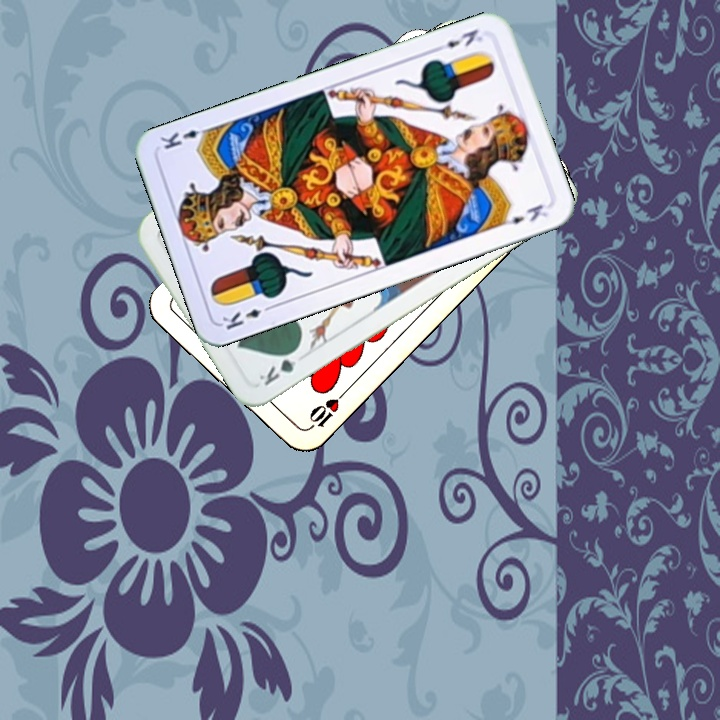EK: (218, 300, 277, 333), (430, 24, 486, 55)
GK: (255, 343, 303, 389)
H10: (302, 387, 349, 434)
